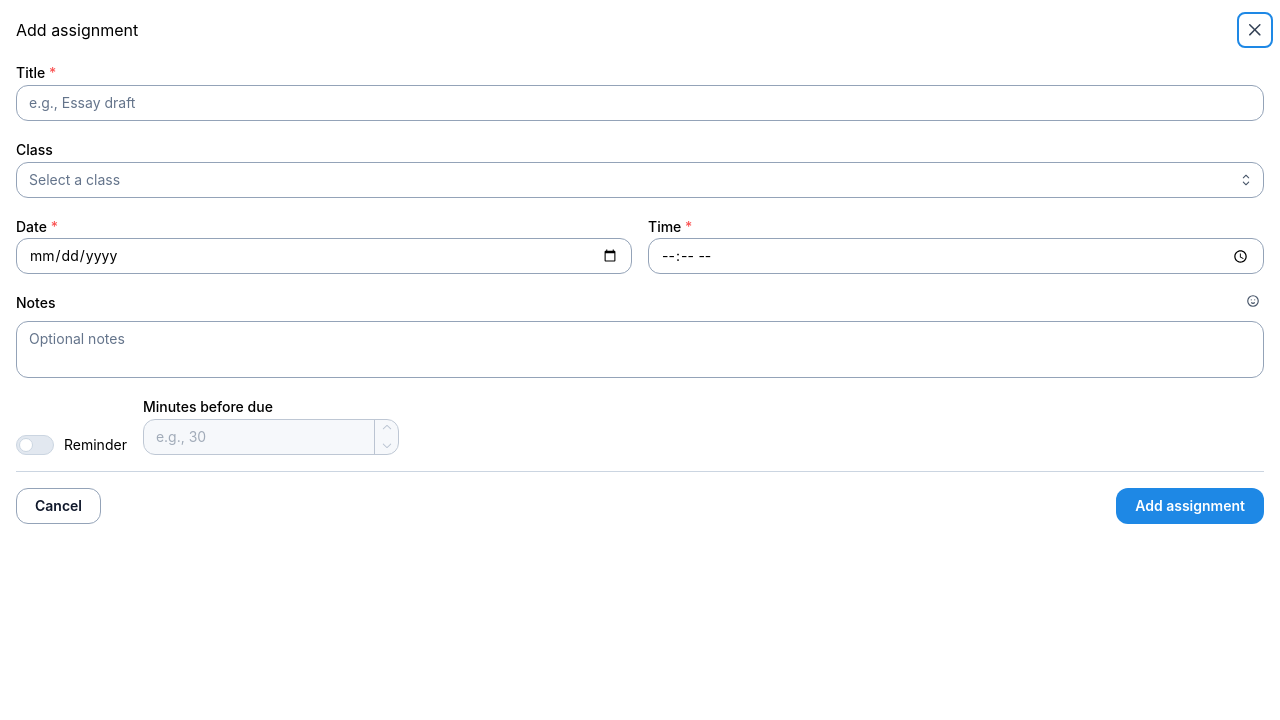
Scenario: UI: AssignmentForm validation › shows required errors when missing fields
This screenshot has width=1280, height=720.
Note: Try to submit immediately
Click the button "Add assignment" at [1190, 506], box [1116,488,1264,524]
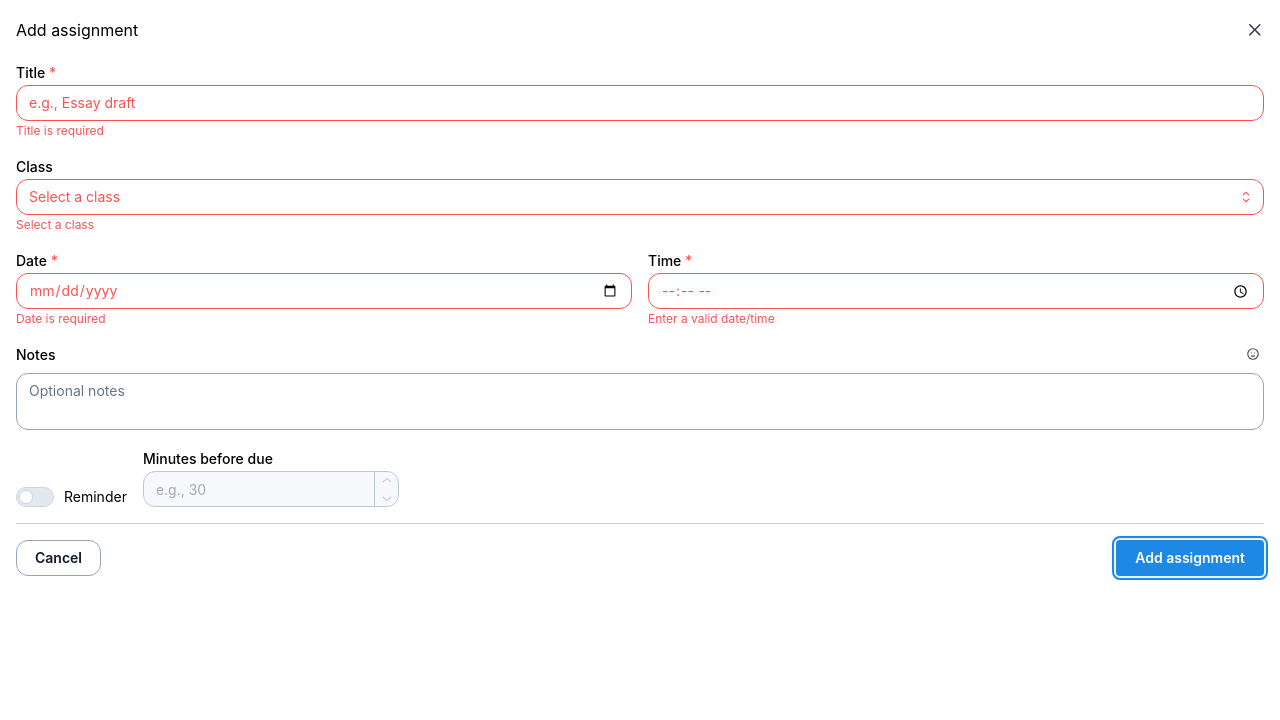
Expected: the text "Title is required" is shown, [16,123,104,138]
Expected: the text "Date is required" is shown, [16,311,106,326]
